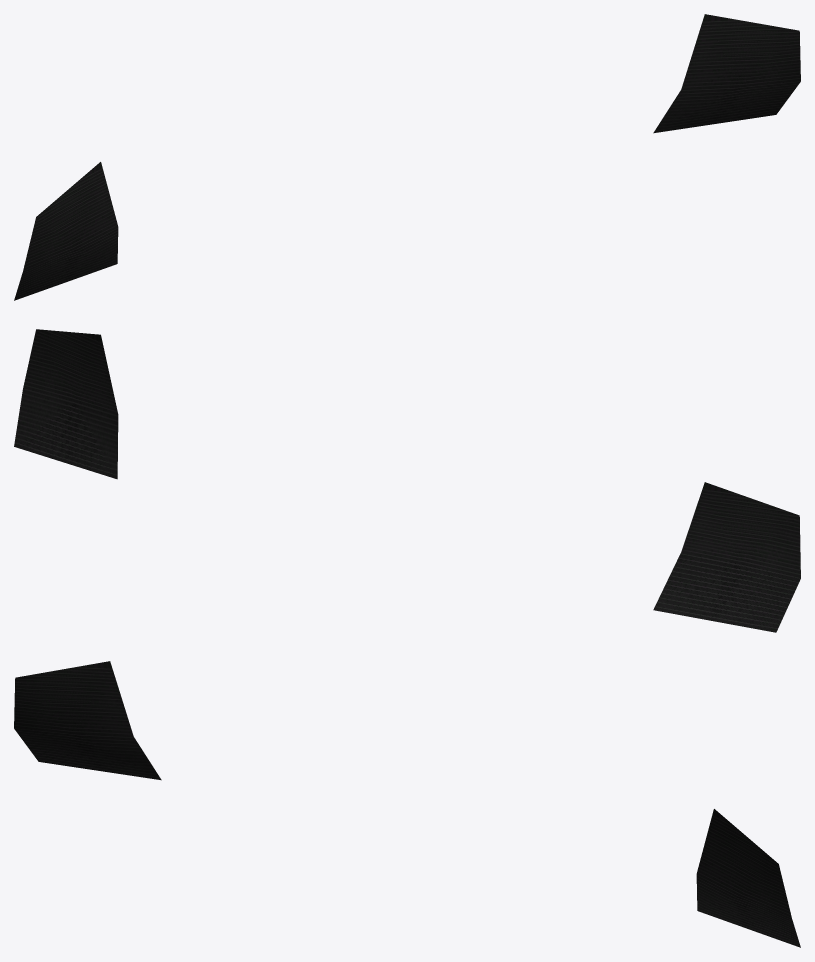
Rendered from Murcielago-LP640-Grid.fbx.
3 views of the same model, one above another, from view 1: azimuth 30°, elevation 25°; view 2: azimuth 150°, elevation 25°; view 3: azimuth 330°, elevation 25° (orthographic).
Parts seen in each view (by area): view 1: polymsh; view 2: polymsh; view 3: polymsh.
Boxes of the visible parts, x1=… form: polymsh: x1=14, y1=14, x2=800, y2=300; polymsh: x1=14, y1=329, x2=800, y2=632; polymsh: x1=14, y1=661, x2=800, y2=947.
Size of the model in its own units: 4.2 by 0.6495 by 0.305.
